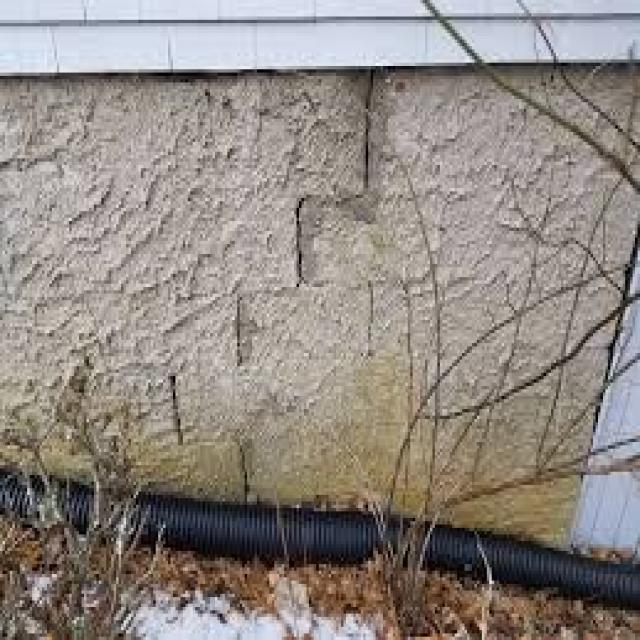Crack: (163, 69, 378, 498)
